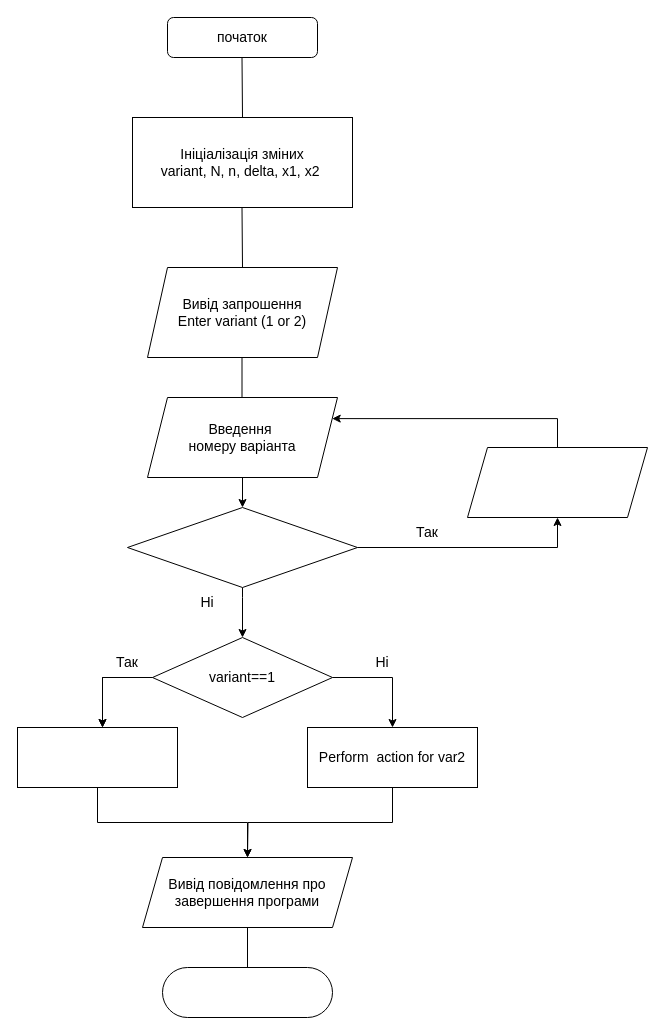
Some shapes in this 665 by 1035 pixel diagram are drawn without their labels. The box of each missing label's shape, as (x1, y1, x2, y2) in pixels:
Perform action for var1: (16, 726, 178, 788)
variant!=1 && variant!=2: (126, 506, 358, 588)
Вивід повідомлення Error.Please try again.: (466, 446, 648, 518)
Кінець: (162, 966, 332, 1018)
